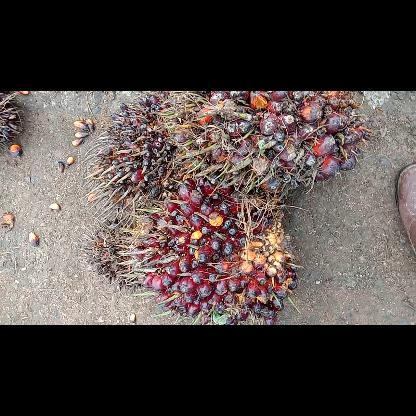TBS abnormal: (77, 91, 188, 217), (76, 204, 146, 296)
TBS masak: (125, 172, 303, 324), (162, 90, 376, 206)
